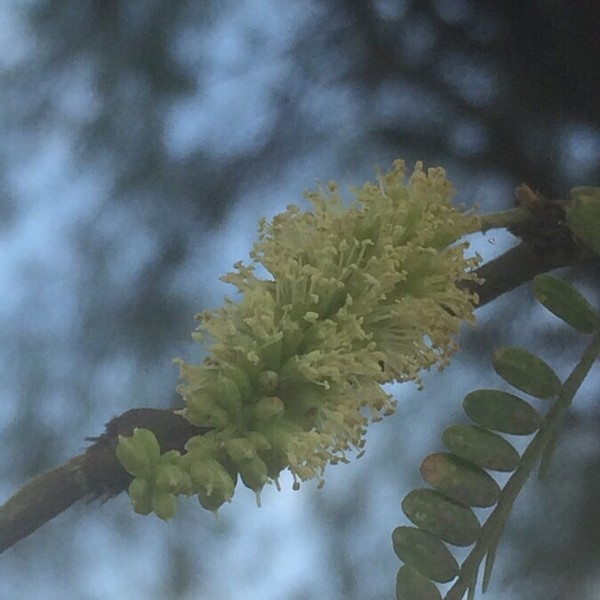obstacle: (100, 151, 456, 503)
